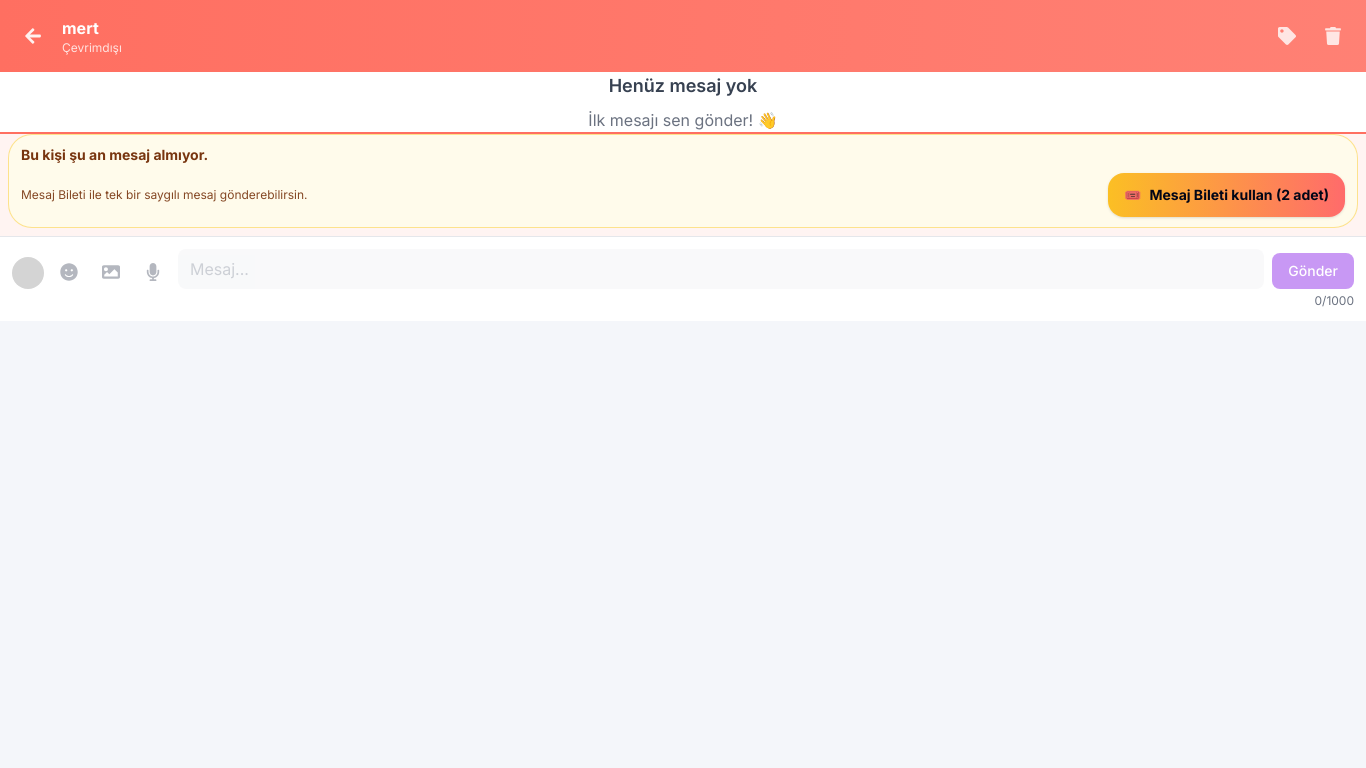
Scenario: ChatWindow bilet akışı › yeni sohbette alıcı mesaj almıyorsa şerit → bilet → mesaj eklenir, şerit "zaten kullandın"a geçer
expect the text box with placeholder "Mesaj..." is disabled: met, box [178,249,1264,289]
Click the button "🎟️ Mesaj Bileti kullan (2 adet)" at (1226, 195), box [1108,173,1345,217]
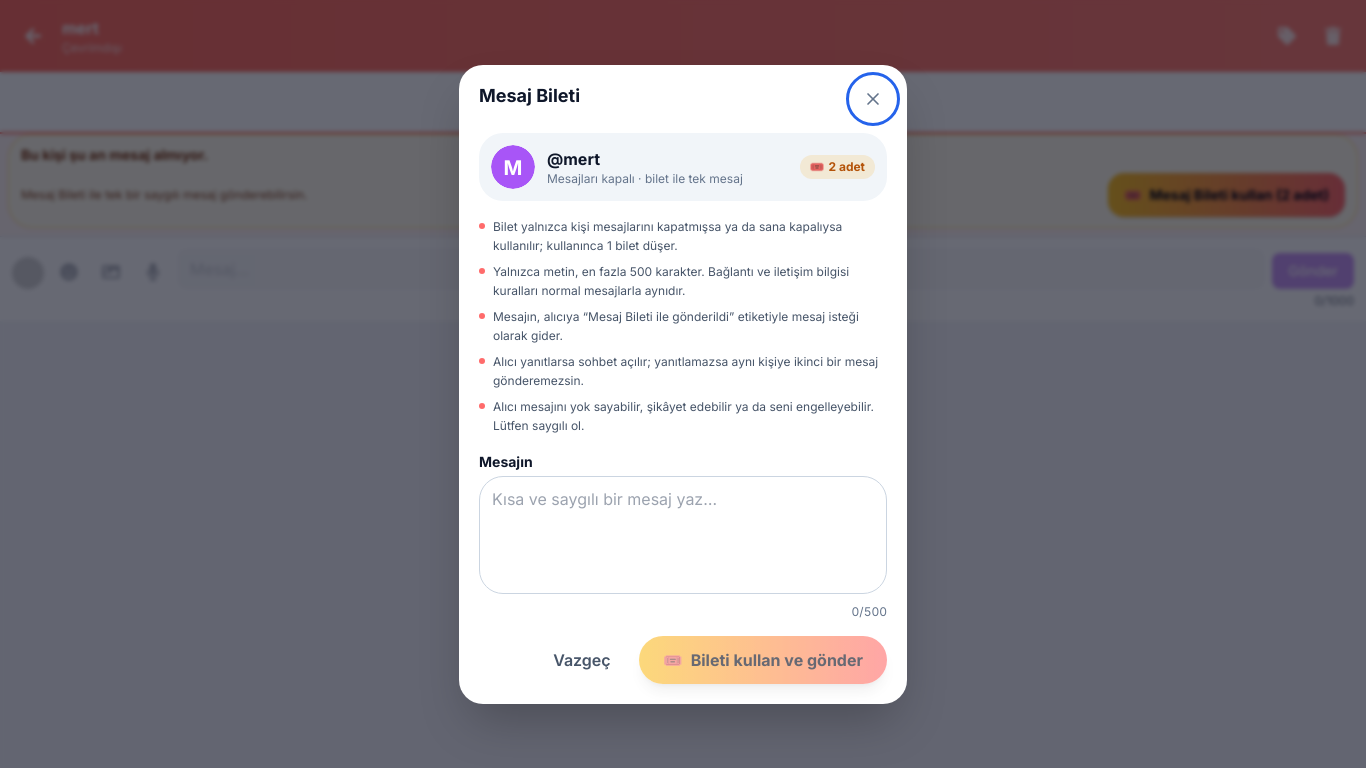
Type "Selam!" into the text box labelled "Mesajın" at (683, 534), box [479,476,887,594]
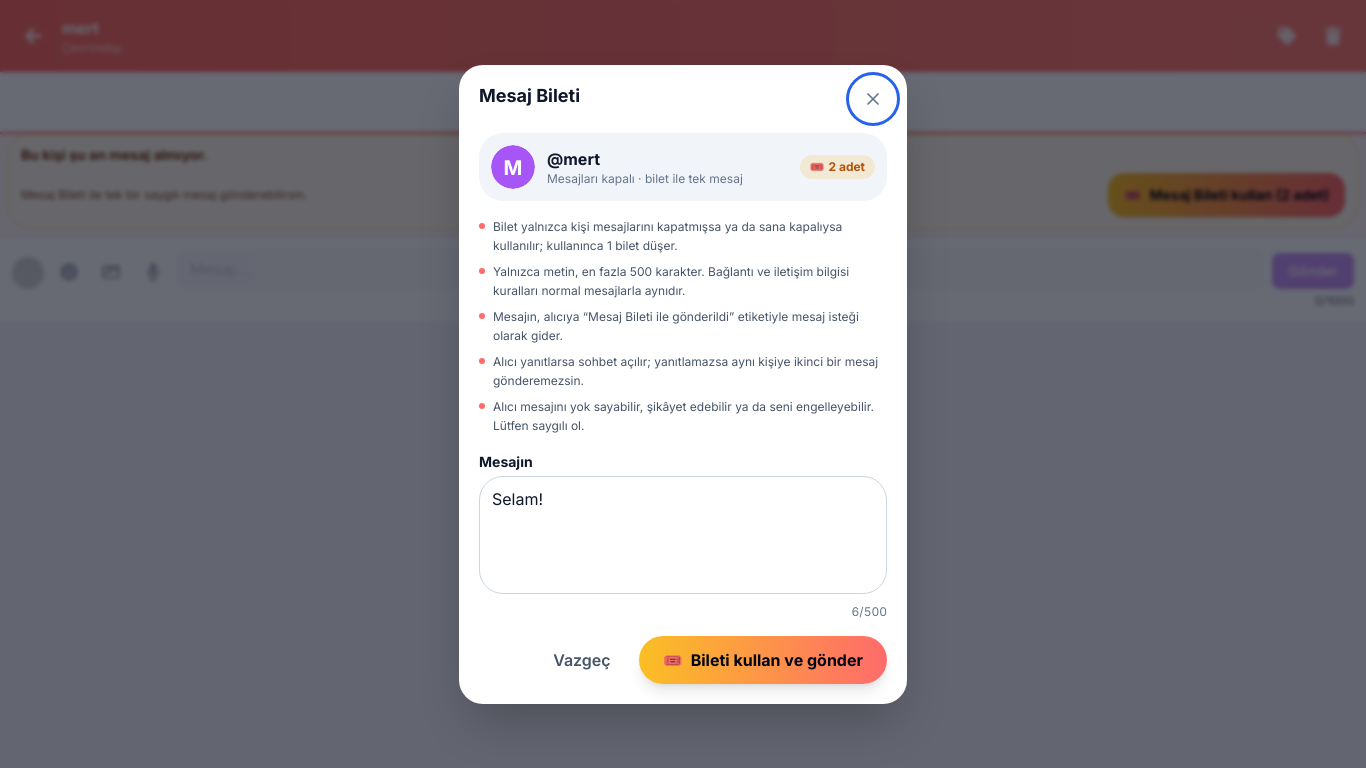
Click the button "🎟️ Bileti kullan ve gönder" at (763, 660), box [639,636,887,684]
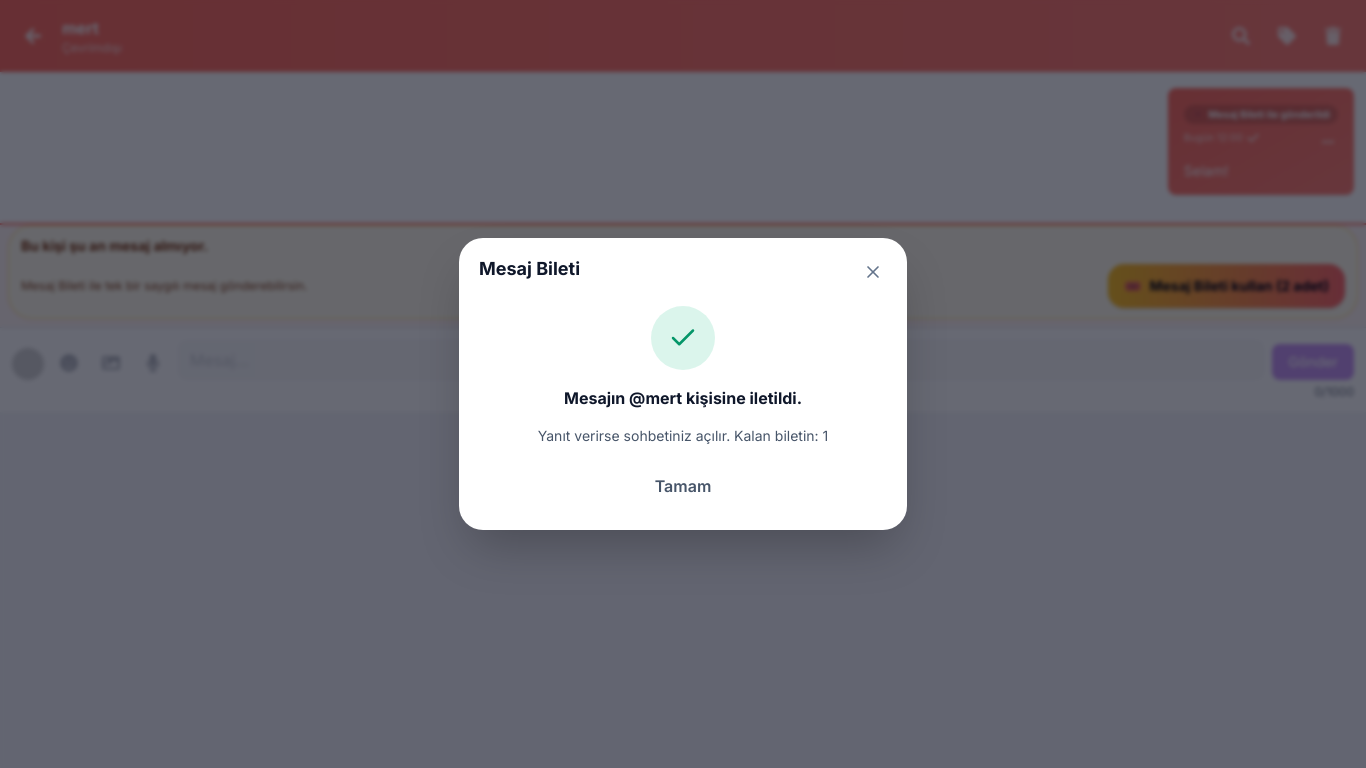
expect the element with test id "ticket-sent" is shown: met, box [538,306,828,510]
Click the button "Tamam" at (683, 486), box [635,462,731,510]
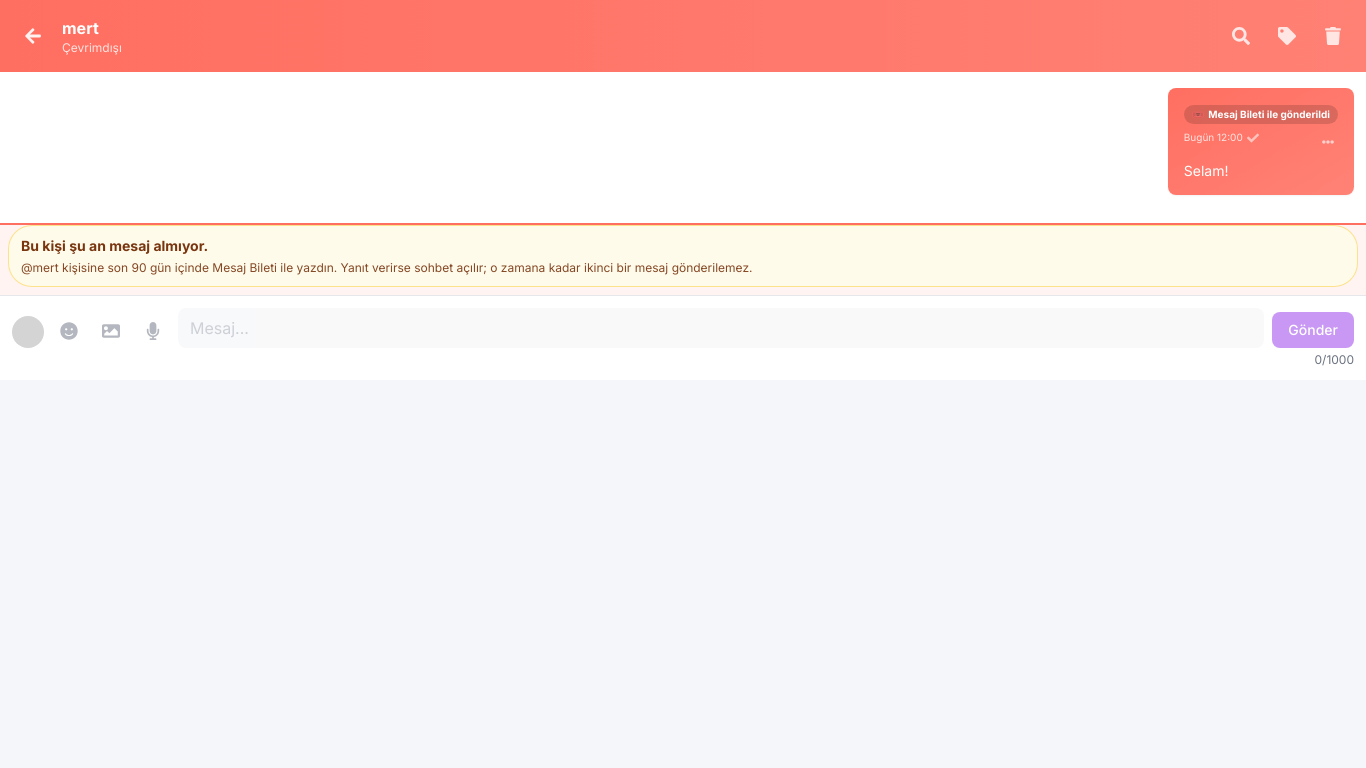
expect the element with test id "ticket-badge" is shown: met, box [1184,100,1338,124]
expect the text "son 90 gün içinde Mesaj Bileti ile yazdın" is shown: met, box [21,260,752,275]
